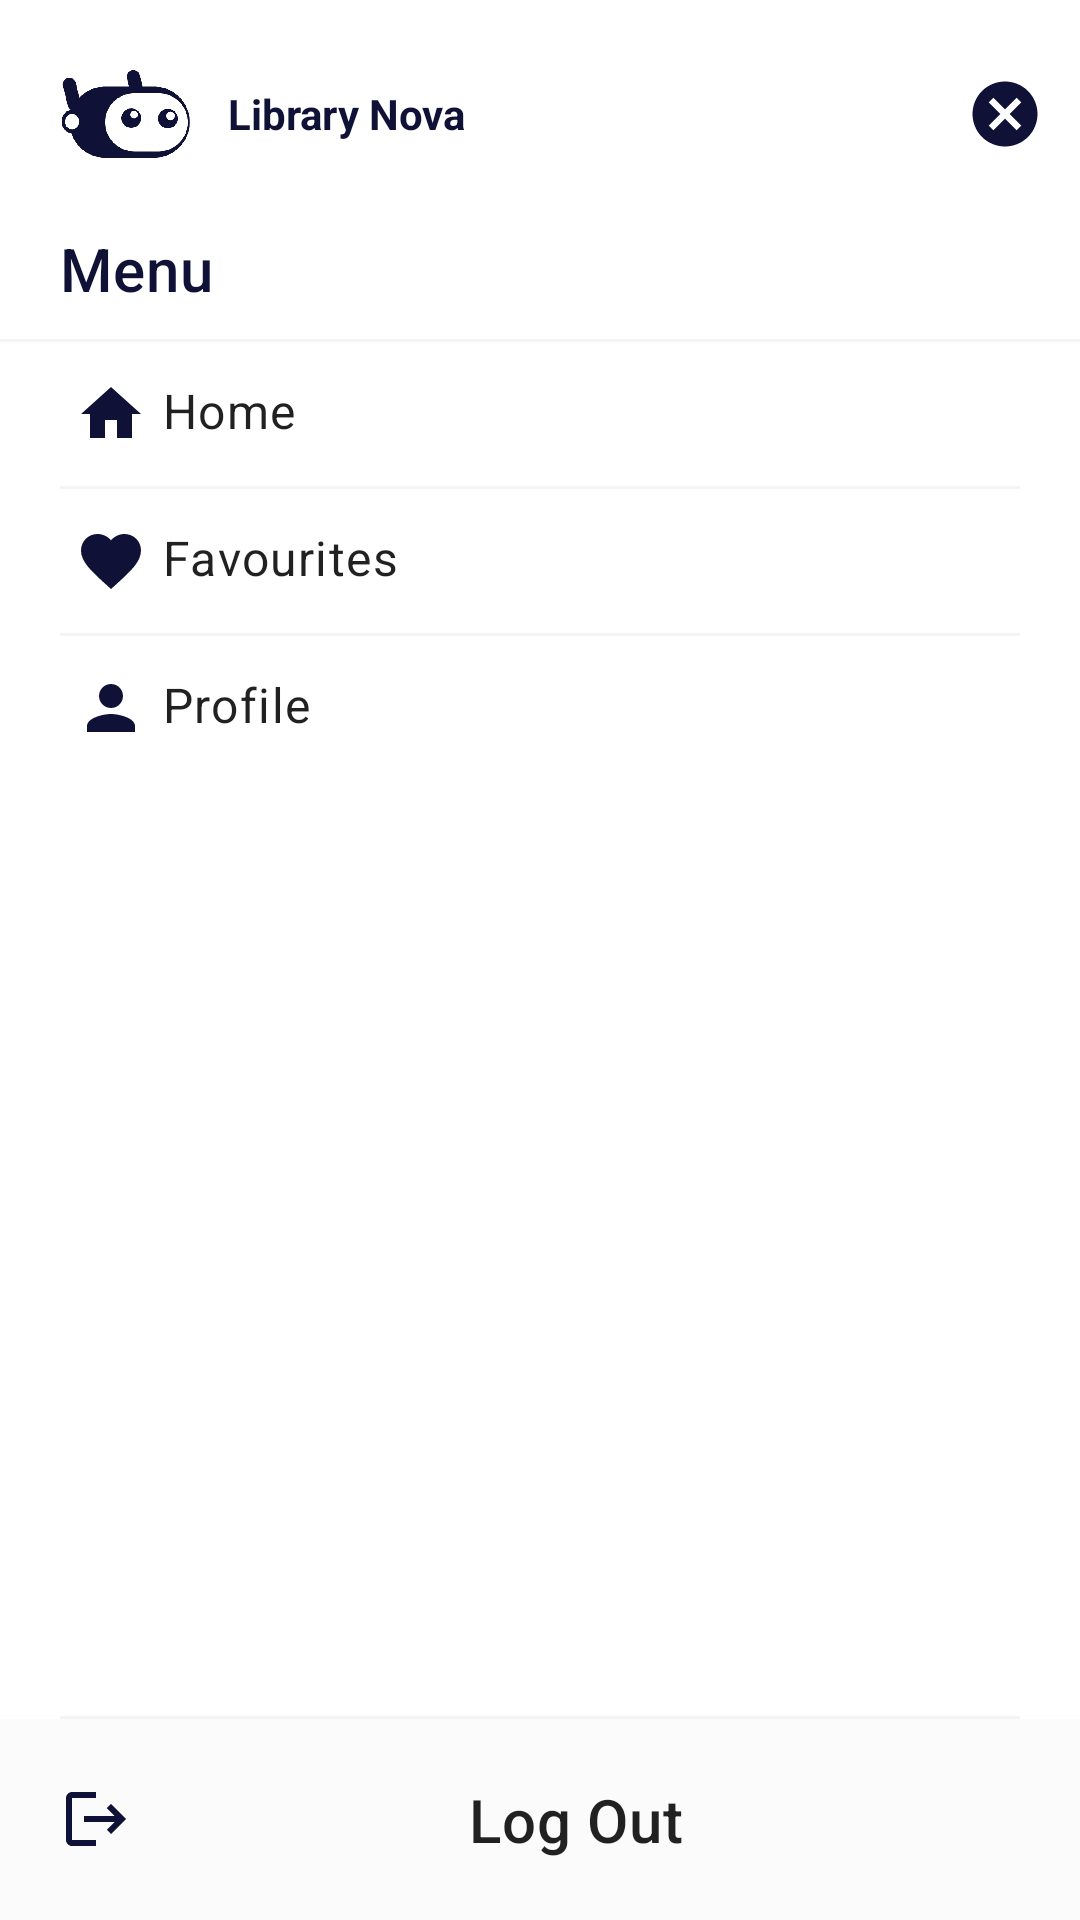

Icons on this 1080px×1920px Android screen, each with its box as [x1=x1, y1=y1, x2=x2, y2=y2]:
cancel: [x1=972, y1=81, x2=1038, y2=147]
